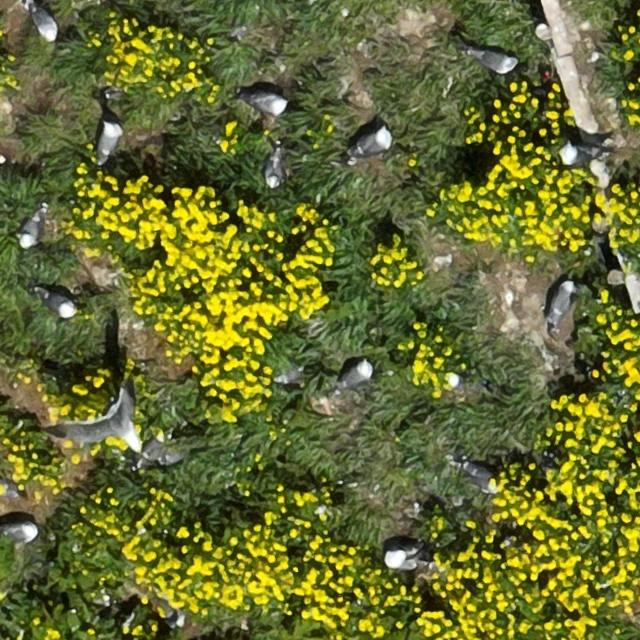F: (71, 389, 139, 451)
umineko: (354, 128, 391, 154), (549, 283, 572, 323), (464, 465, 496, 493), (21, 209, 44, 247), (338, 361, 370, 388), (33, 6, 58, 40), (471, 51, 513, 71), (249, 92, 287, 114), (98, 124, 120, 160), (42, 292, 75, 316), (443, 373, 472, 396), (265, 150, 283, 187), (4, 521, 37, 541), (386, 550, 421, 568), (563, 145, 597, 163), (0, 482, 17, 498)
